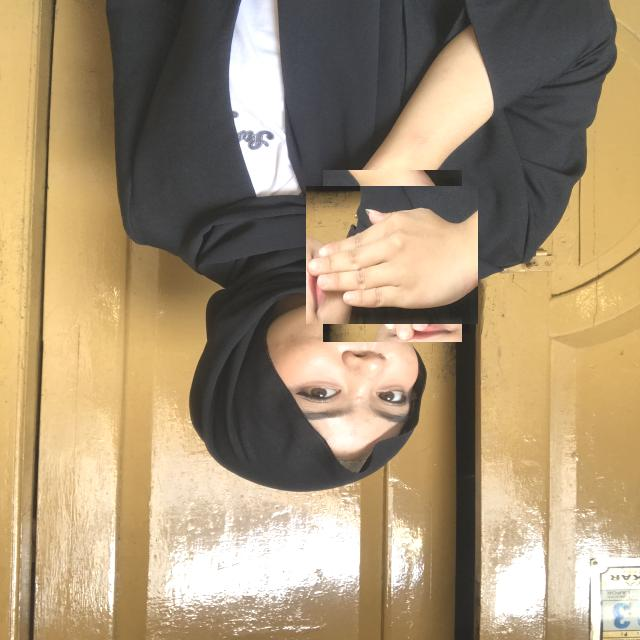ganteng: (315, 178, 470, 333)
